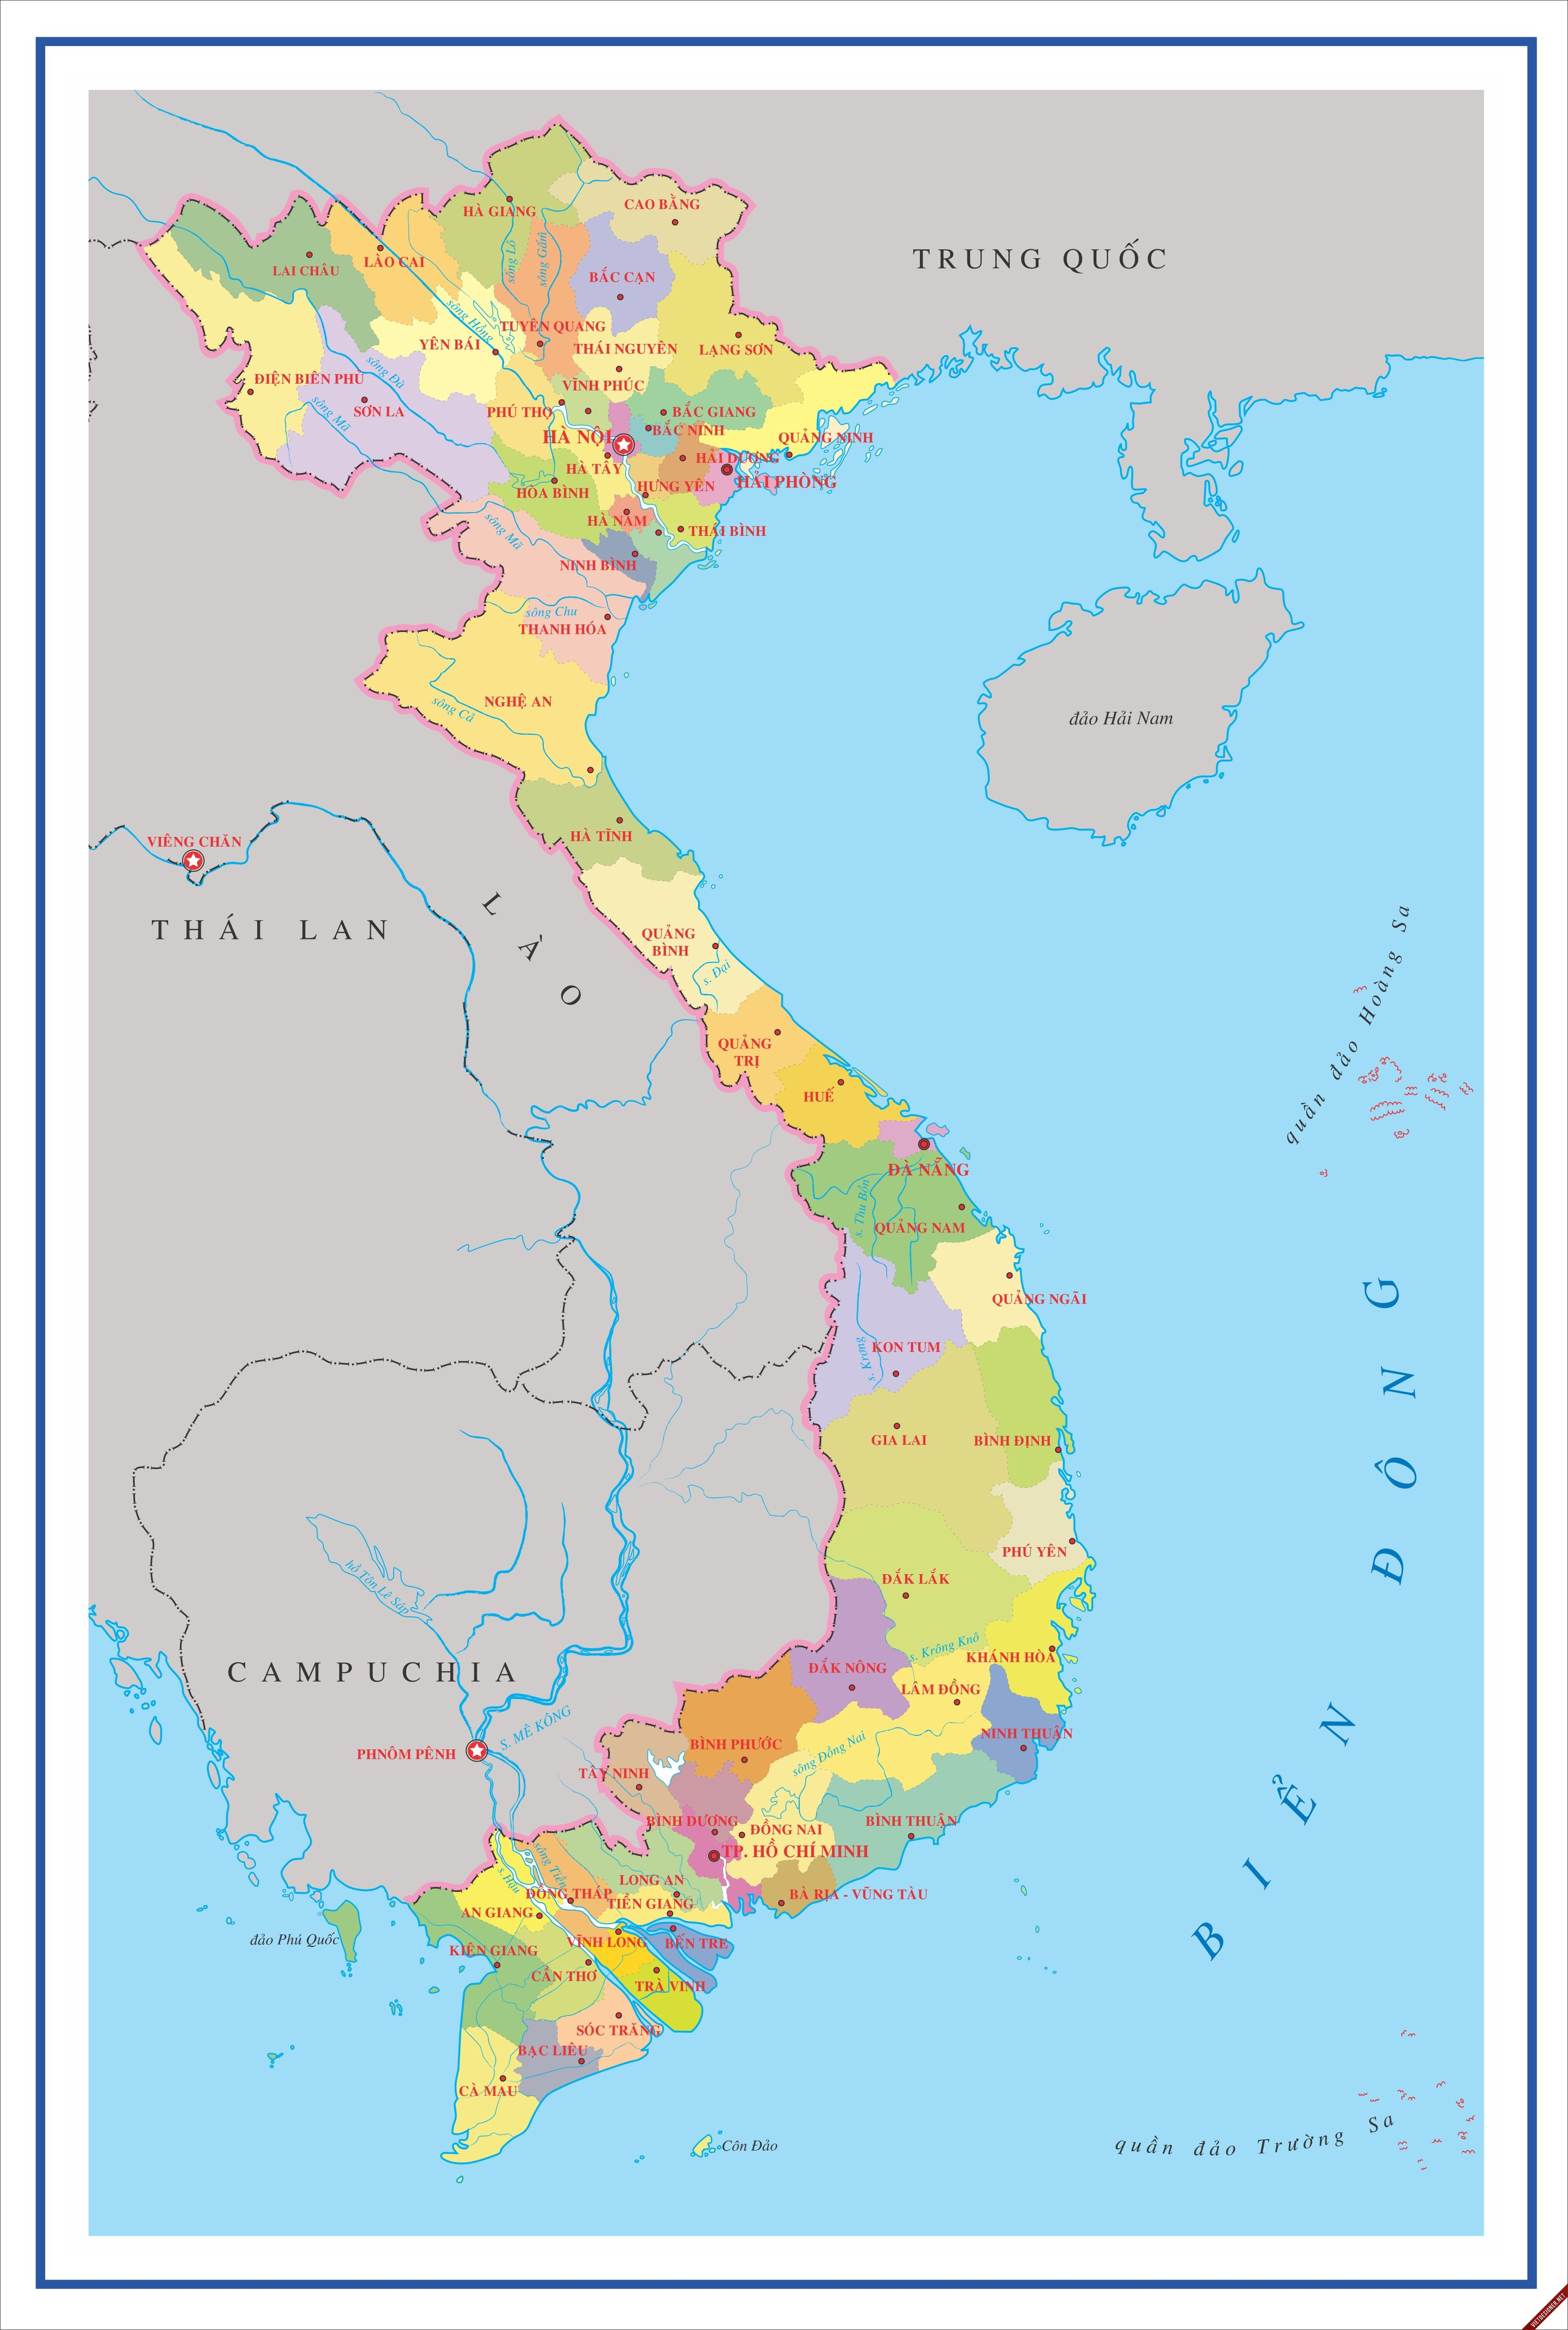Island: (1106, 2019, 1479, 2208), (1276, 885, 1479, 1189)
